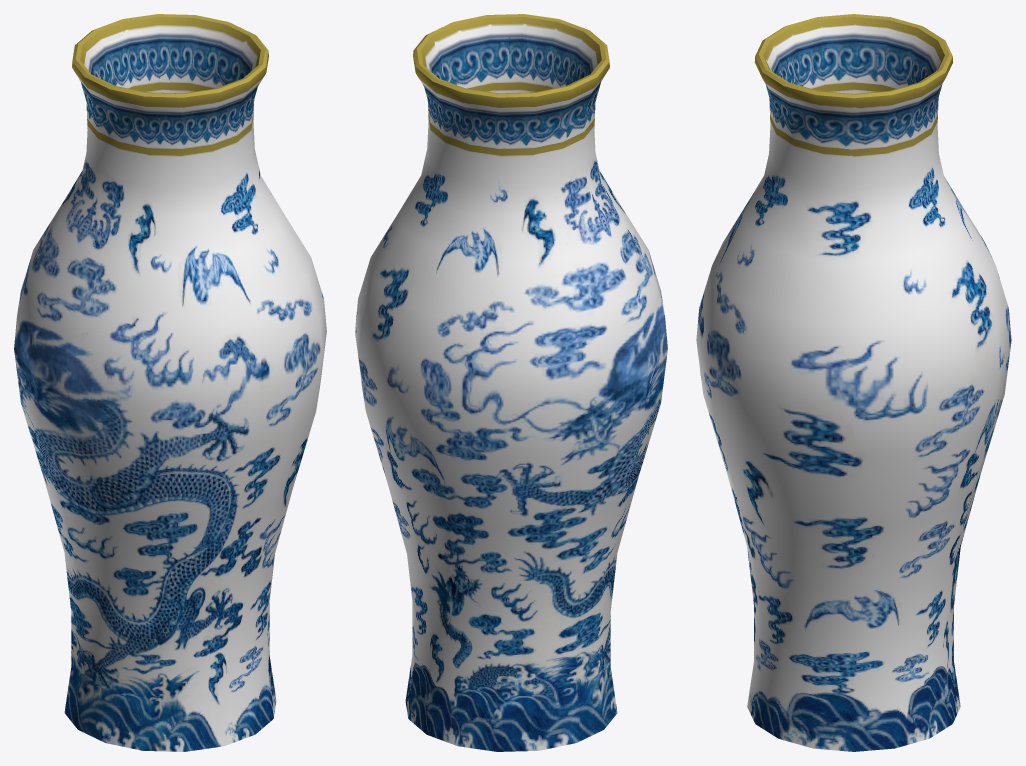
The picture shows the model from 3 angles, left to right: view 1: azimuth 30°, elevation 25°; view 2: azimuth 150°, elevation 25°; view 3: azimuth 270°, elevation 25°; orthographic projection.
Visible parts, largest first — view 1: china_vase_sh_10, china_vase_sh_1, china_vase_sh_19, china_vase_sh_25, china_vase_sh_28, china_vase_sh_12, china_vase_sh_17, china_vase_sh_20, china_vase_sh_8, china_vase_sh_7, china_vase_sh_6, china_vase_sh_23 (+6 smaller); view 2: china_vase_sh_3, china_vase_sh_20, china_vase_sh_13, china_vase_sh_14, china_vase_sh_11, china_vase_sh_1, china_vase_sh_9, china_vase_sh_12, china_vase_sh_28, china_vase_sh_29, china_vase_sh_6, china_vase_sh_4 (+8 smaller); view 3: china_vase_sh_6, china_vase_sh_18, china_vase_sh_24, china_vase_sh_20, china_vase_sh_8, china_vase_sh_7, china_vase_sh_22, china_vase_sh_4, china_vase_sh_23, china_vase_sh_19, china_vase_sh_12, china_vase_sh_16 (+10 smaller).
Part boxes in pixels (x1=…): china_vase_sh_10: x1=94, y1=288, x2=294, y2=512; china_vase_sh_1: x1=48, y1=476, x2=245, y2=696; china_vase_sh_19: x1=141, y1=178, x2=303, y2=392; china_vase_sh_25: x1=81, y1=593, x2=256, y2=751; china_vase_sh_28: x1=41, y1=161, x2=179, y2=319; china_vase_sh_12: x1=100, y1=61, x2=266, y2=199; china_vase_sh_17: x1=29, y1=316, x2=171, y2=508; china_vase_sh_20: x1=77, y1=14, x2=212, y2=178; china_vase_sh_8: x1=194, y1=378, x2=320, y2=576; china_vase_sh_7: x1=241, y1=573, x2=274, y2=732; china_vase_sh_6: x1=237, y1=113, x2=308, y2=280; china_vase_sh_23: x1=192, y1=15, x2=268, y2=113; china_vase_sh_3: x1=409, y1=227, x2=640, y2=374; china_vase_sh_20: x1=425, y1=65, x2=605, y2=268; china_vase_sh_13: x1=413, y1=342, x2=643, y2=491; china_vase_sh_14: x1=402, y1=534, x2=555, y2=664; china_vase_sh_11: x1=417, y1=443, x2=613, y2=555; china_vase_sh_1: x1=536, y1=452, x2=645, y2=696; china_vase_sh_9: x1=438, y1=661, x2=605, y2=751; china_vase_sh_12: x1=480, y1=14, x2=609, y2=100; china_vase_sh_28: x1=539, y1=139, x2=653, y2=319; china_vase_sh_29: x1=374, y1=410, x2=488, y2=537; china_vase_sh_6: x1=364, y1=81, x2=494, y2=331; china_vase_sh_4: x1=408, y1=582, x2=483, y2=738; china_vase_sh_6: x1=748, y1=137, x2=988, y2=344; china_vase_sh_18: x1=710, y1=296, x2=976, y2=436; china_vase_sh_24: x1=783, y1=380, x2=980, y2=516; china_vase_sh_20: x1=817, y1=15, x2=969, y2=242; china_vase_sh_8: x1=709, y1=389, x2=844, y2=567; china_vase_sh_7: x1=753, y1=564, x2=850, y2=742; china_vase_sh_22: x1=762, y1=516, x2=890, y2=623; china_vase_sh_4: x1=855, y1=605, x2=955, y2=739; china_vase_sh_23: x1=790, y1=82, x2=922, y2=166; china_vase_sh_19: x1=699, y1=160, x2=774, y2=378; china_vase_sh_12: x1=754, y1=16, x2=830, y2=168; china_vase_sh_16: x1=791, y1=680, x2=924, y2=751.
Bounding box in the file's own units: 21.47 × 49.02 × 21.47.
Materials: 1 (1 with a texture image).
